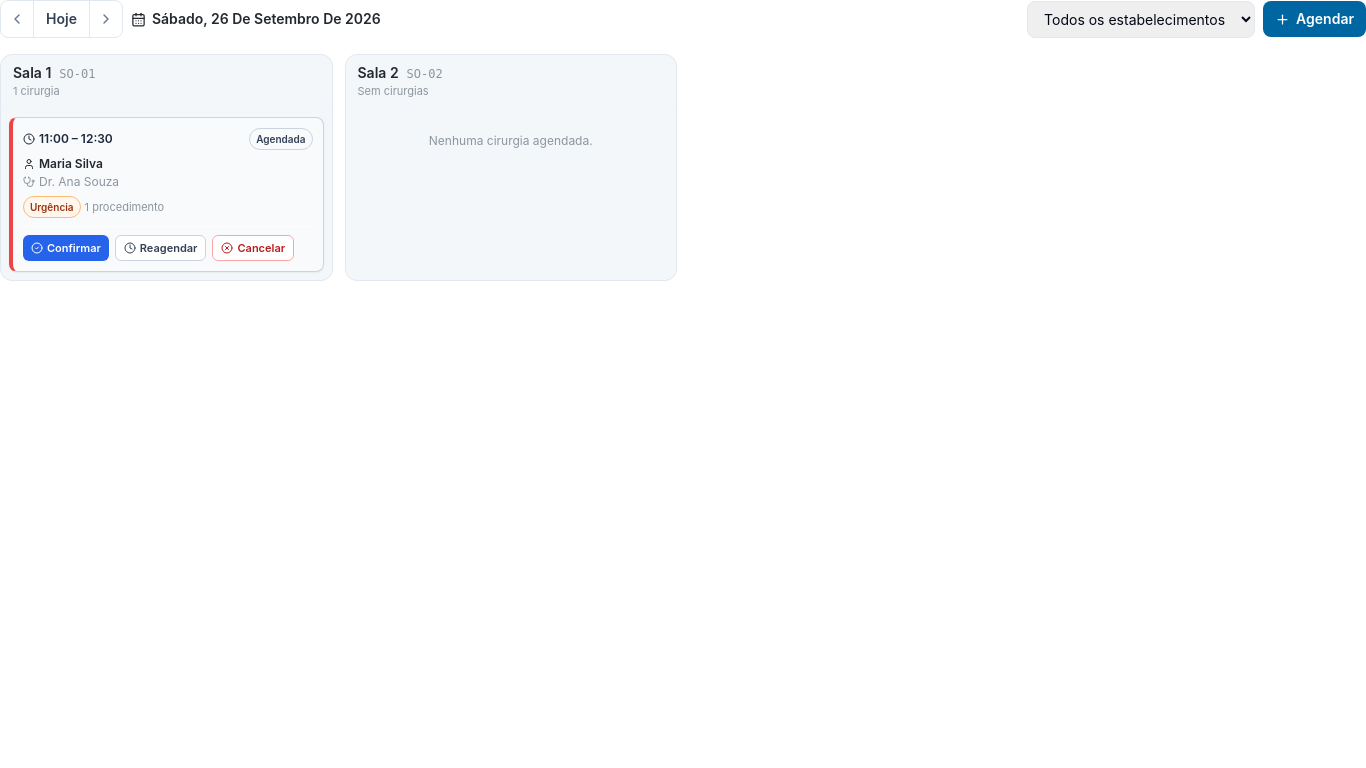
it: SurgicalBoard › opens the schedule modal from Agendar with surgery.schedule
The width and height of the screenshot is (1366, 768).
Expected: the text "Maria Silva" is shown, [23, 156, 103, 170]
Click the button "Agendar".
click(1315, 19)  # box [1263, 1, 1365, 37]
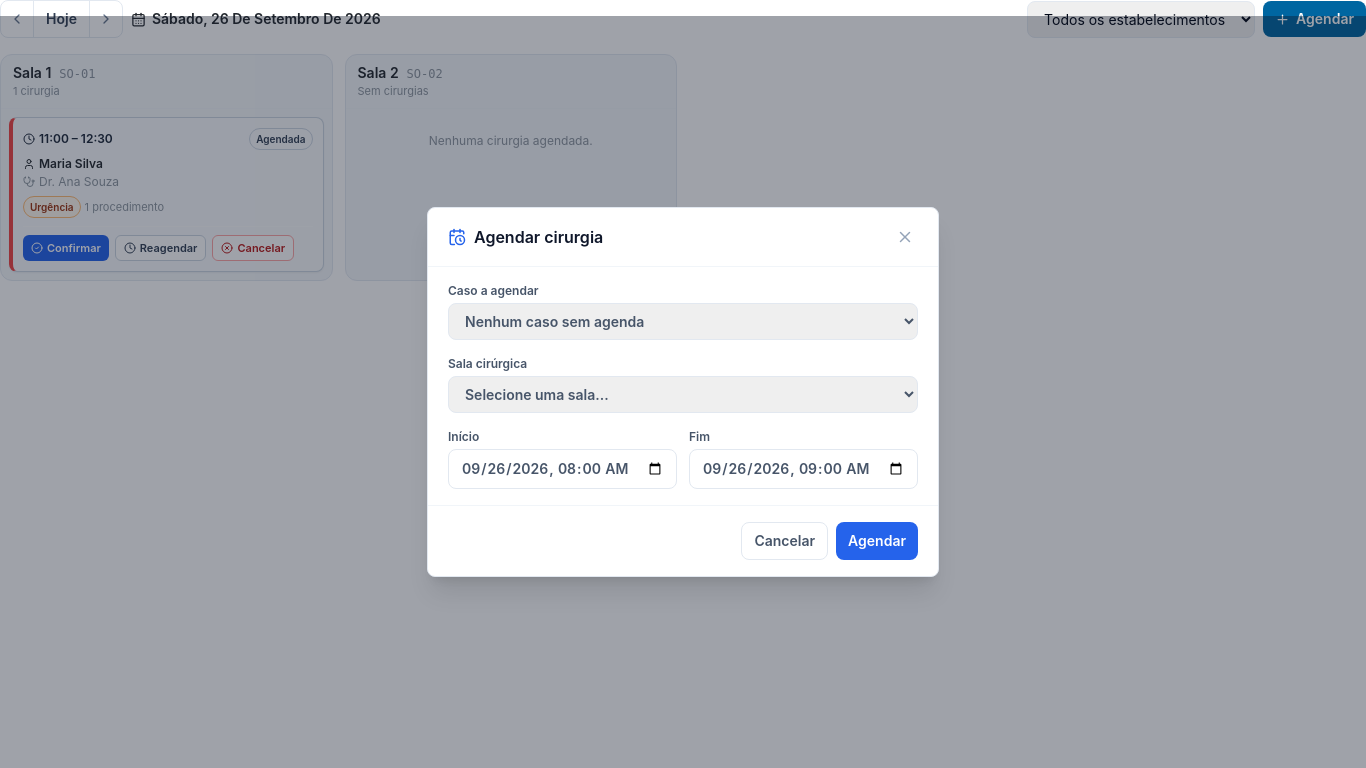
Now the dialog "Agendar cirurgia" is shown
